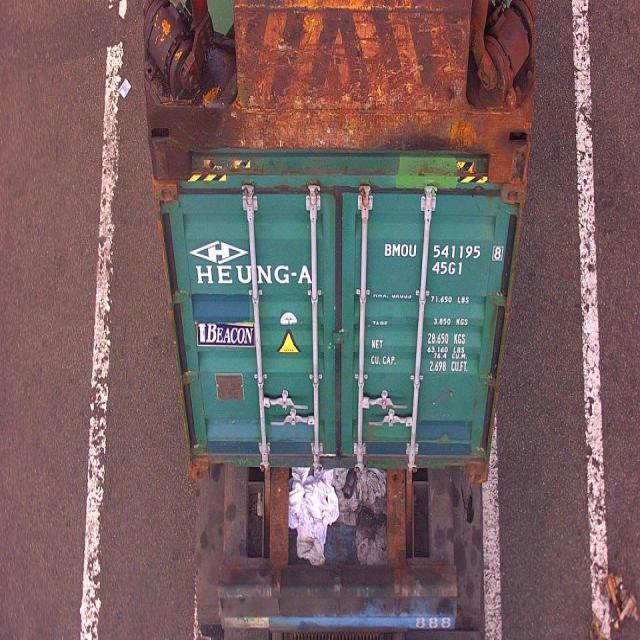ISO: (432, 260, 464, 276)
container_number: (382, 240, 503, 260)
